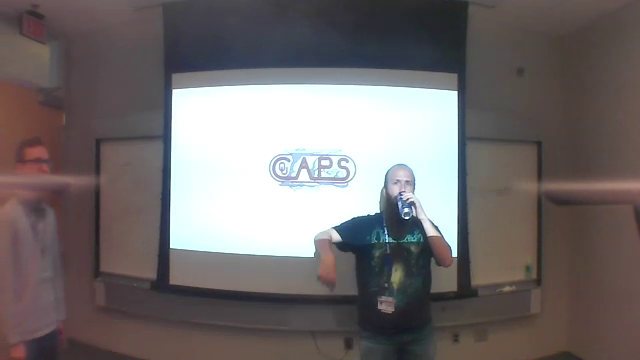down: (312, 247, 345, 302)
